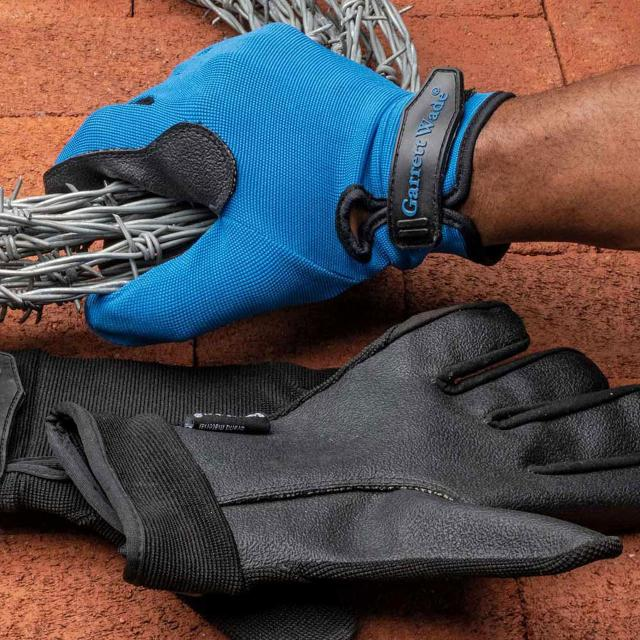gloves: (37, 296, 640, 623), (48, 23, 520, 344)
